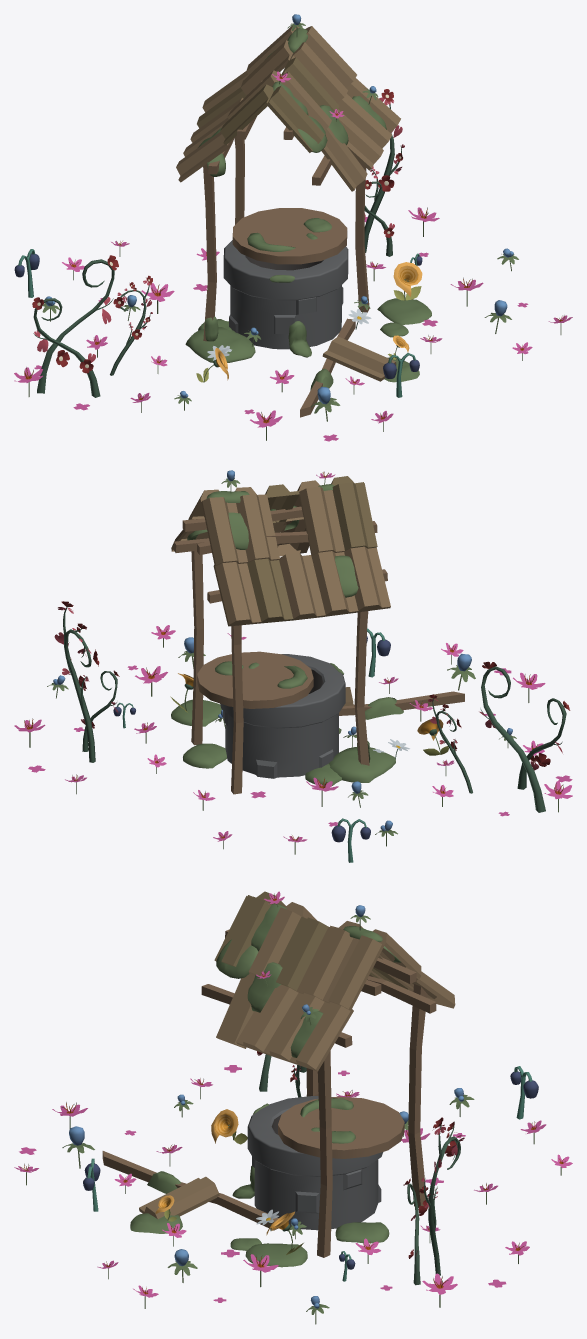
The model's file is P_Well_03.fbx.
3 views of the same model, one above another, from view 1: azimuth 30°, elevation 25°; view 2: azimuth 150°, elevation 25°; view 3: azimuth 270°, elevation 25° (orthographic). The views are drawn at different scales.
Visible parts, largest first — view 1: lod1; view 2: lod1; view 3: lod1.
Boxes of the visible parts, bbox=[...] form: lod1: bbox=[14, 14, 572, 441]; lod1: bbox=[14, 470, 572, 862]; lod1: bbox=[14, 891, 572, 1324].
Size of the model in its own units: 5.62 by 3.1 by 4.87.
